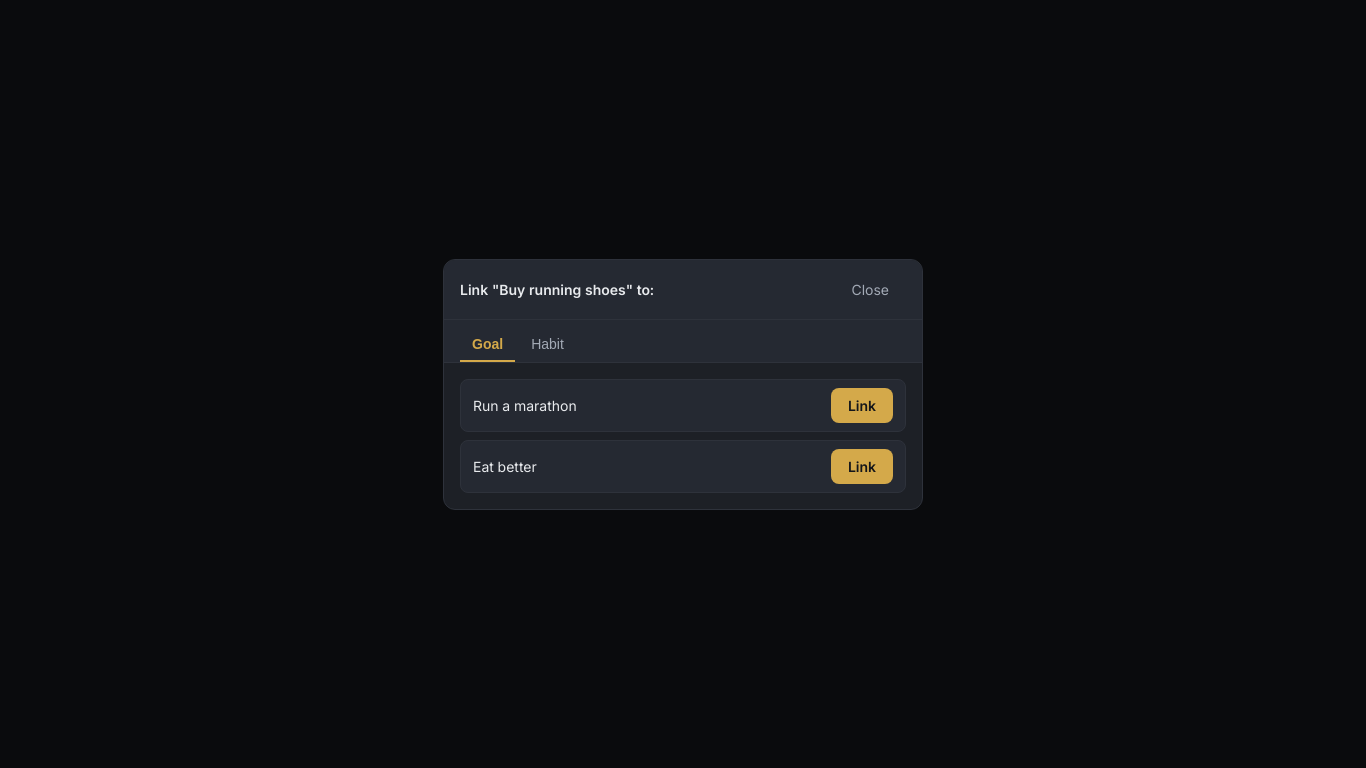
Test case: LinkModal tab ordering › orders tabs as Goal, Habit for Task and defaults to Goal
Expected: the text "Run a marathon" is shown, [473,396,577,414]
Click the tab "Habit" at (547, 344), box [519,328,576,362]
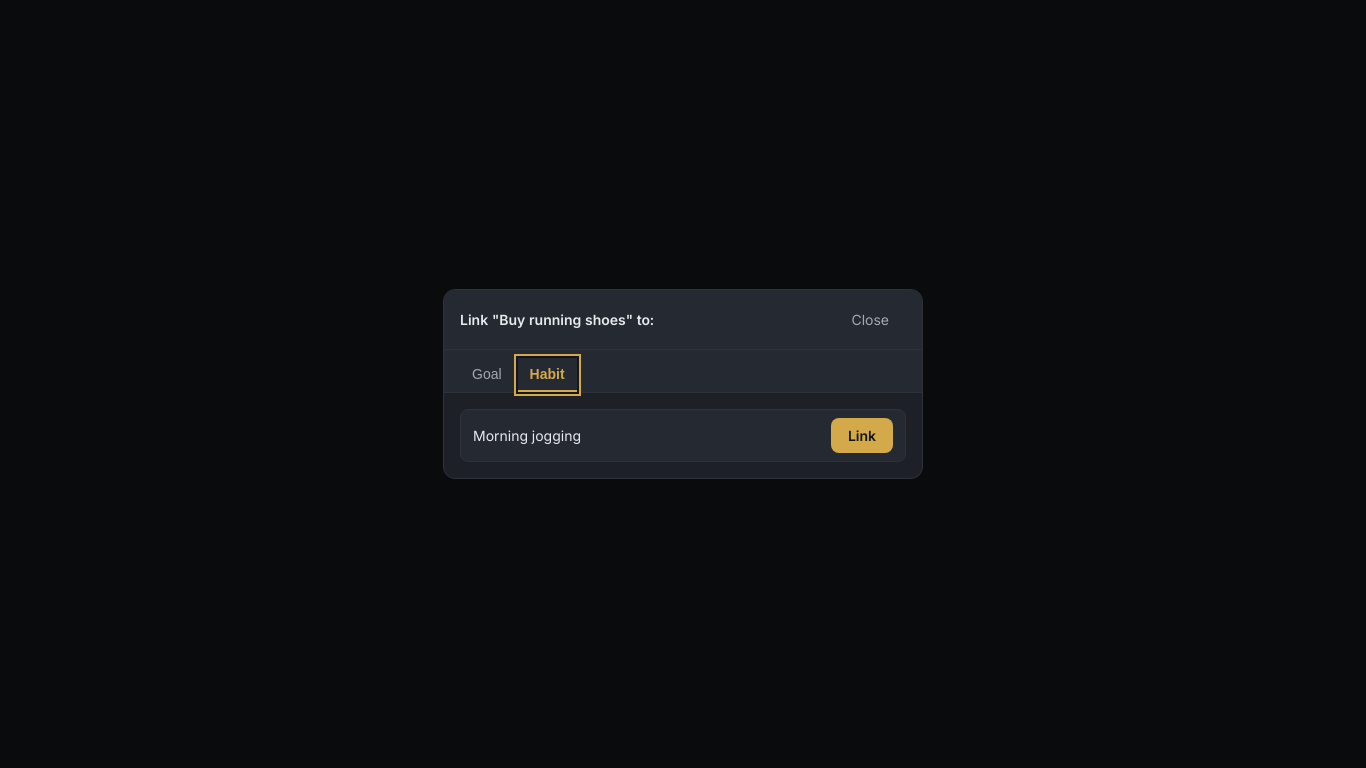
Now the text "Morning jogging" is shown, box [473,427,581,444]
